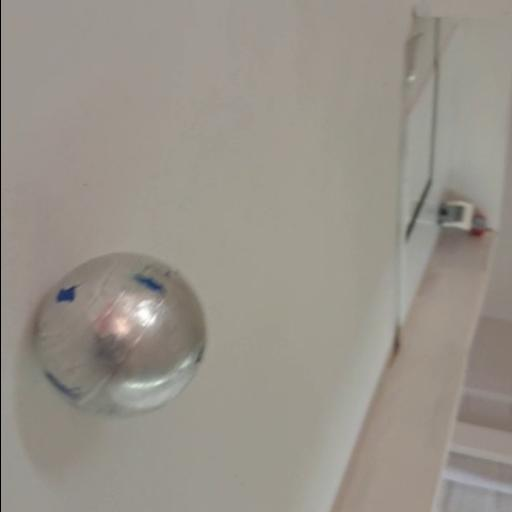alive: (28, 248, 212, 423)
